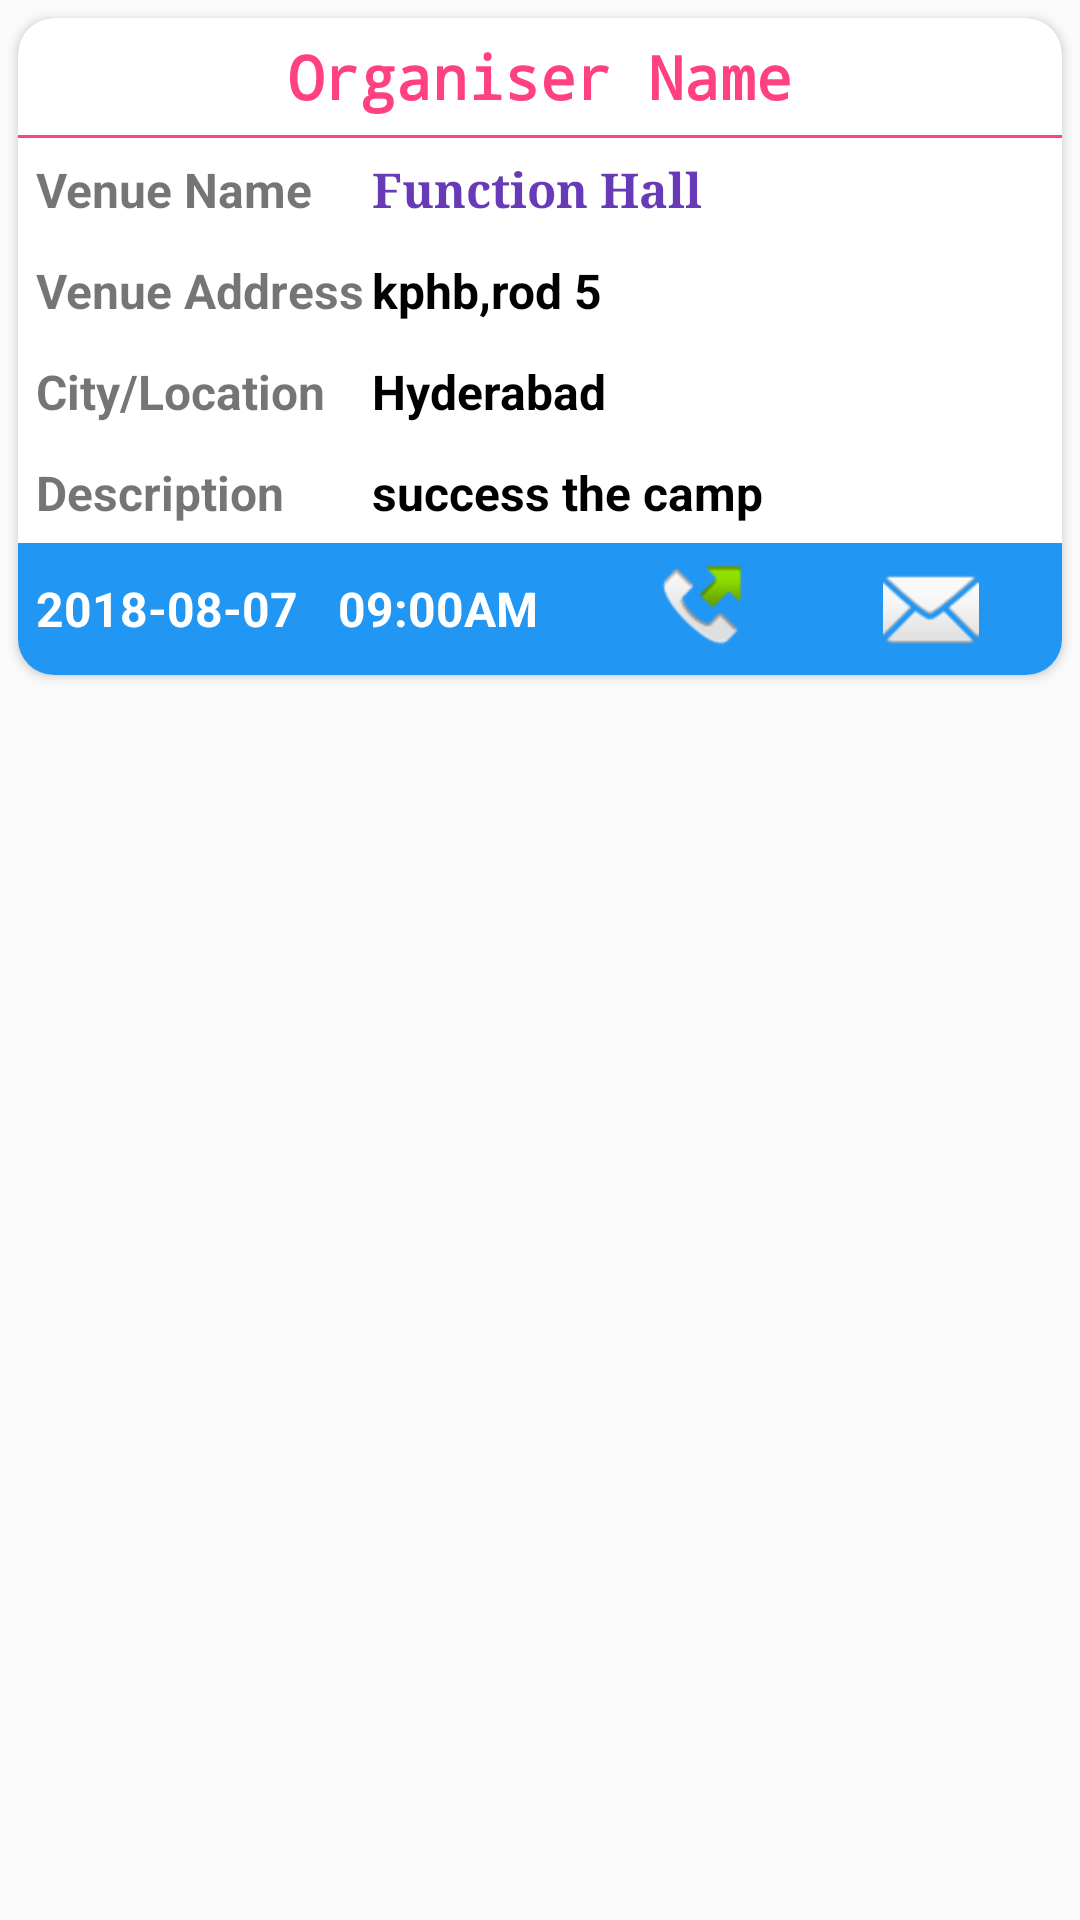

Named icons in this screenshot (1080*1920) and their bounding boxes, (x1, y1, x2, y2):
email: (883, 576, 979, 644)
sym call outgoing: (663, 565, 742, 644)
